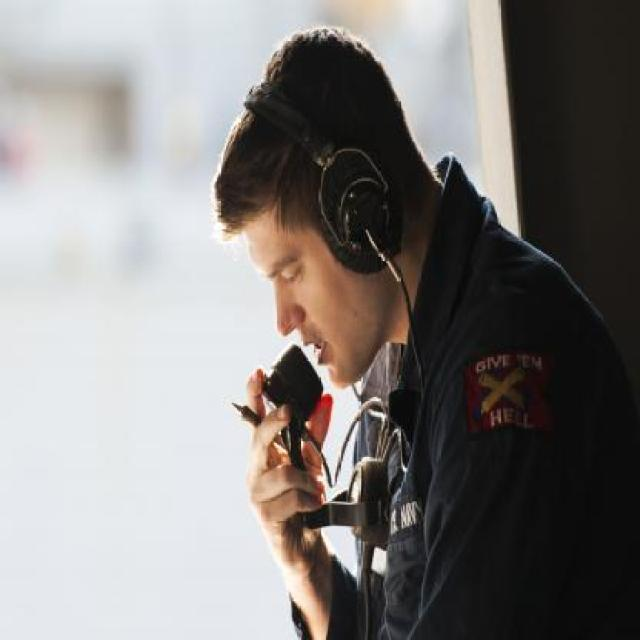earphone: (269, 99, 449, 452)
